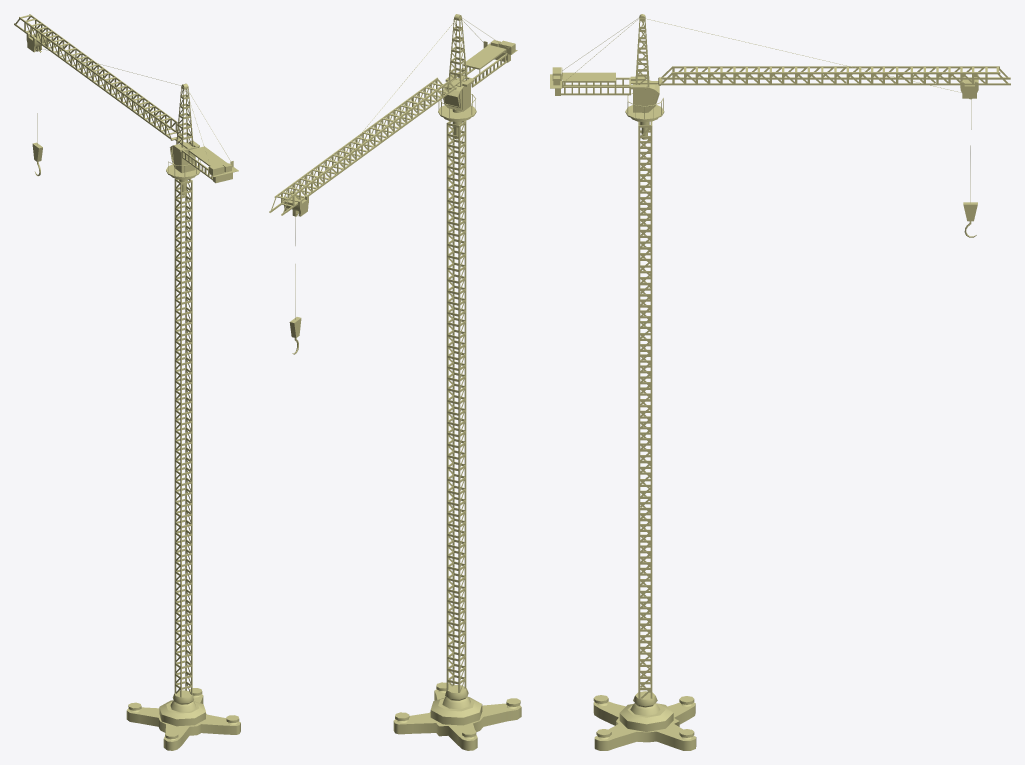
File: Crane.fbx
3 renders of one model, left to right at view 1: azimuth 30°, elevation 25°; view 2: azimuth 150°, elevation 25°; view 3: azimuth 270°, elevation 25°, orthographic. The views are drawn at different scales.
Parts seen in each view (by area): view 1: polySurface157, pCube1, pCube2, pCube3, pCube5, pCylinder5, pCube4, pCube219, pCylinder6; view 2: polySurface157, pCube1, pCube2, pCube4, pCube3, pCube5, pCylinder5, pCube219, pCylinder6; view 3: polySurface157, pCube1, pCube4, pCube5, pCylinder5.
Boxes of the visible parts, x1,y1,x2,y2 form: polySurface157: (14, 14, 238, 183); pCube1: (126, 694, 240, 750); pCube2: (174, 179, 176, 693); pCube3: (180, 183, 181, 697); pCube5: (191, 180, 192, 694); pCylinder5: (159, 700, 205, 726); pCube4: (185, 183, 186, 690); pCube219: (170, 142, 195, 173); pCylinder6: (170, 690, 196, 712); polySurface157: (269, 40, 517, 215); pCube1: (393, 689, 521, 750); pCube2: (458, 125, 460, 692); pCube4: (446, 123, 448, 689); pCube3: (464, 121, 466, 688); pCube5: (452, 126, 454, 685); pCylinder5: (430, 697, 482, 725); pCube219: (443, 78, 470, 111); pCylinder6: (442, 685, 470, 709); polySurface157: (550, 66, 1010, 95); pCube1: (593, 701, 696, 750); pCube4: (650, 125, 652, 698); pCube5: (638, 125, 640, 698); pCylinder5: (619, 703, 673, 731).
Bounding box in the file's own units: 4.5 × 37.03 × 21.61.
